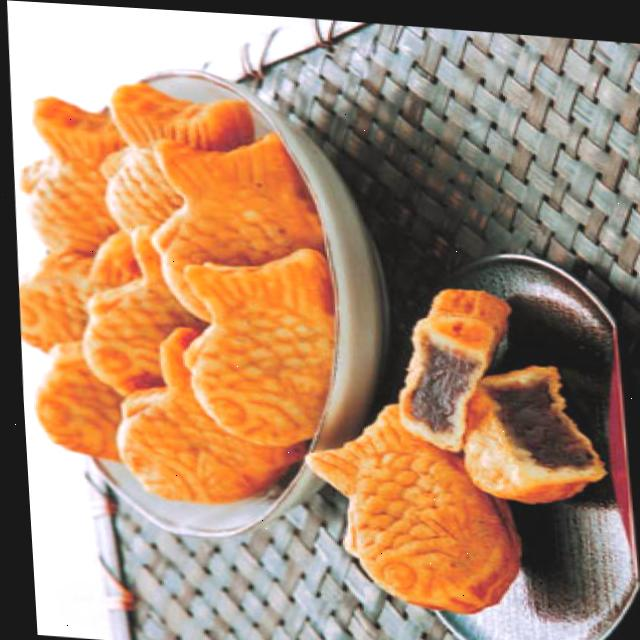熟制海鲜: (284, 390, 512, 617)
